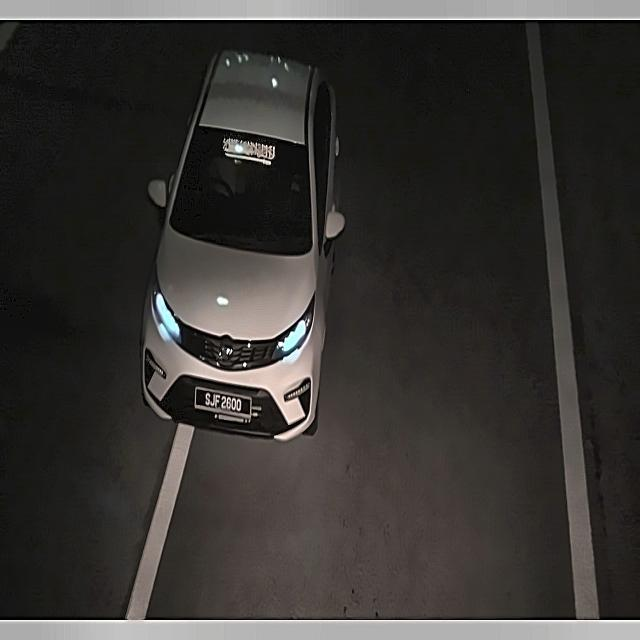car: (190, 375, 258, 428)
